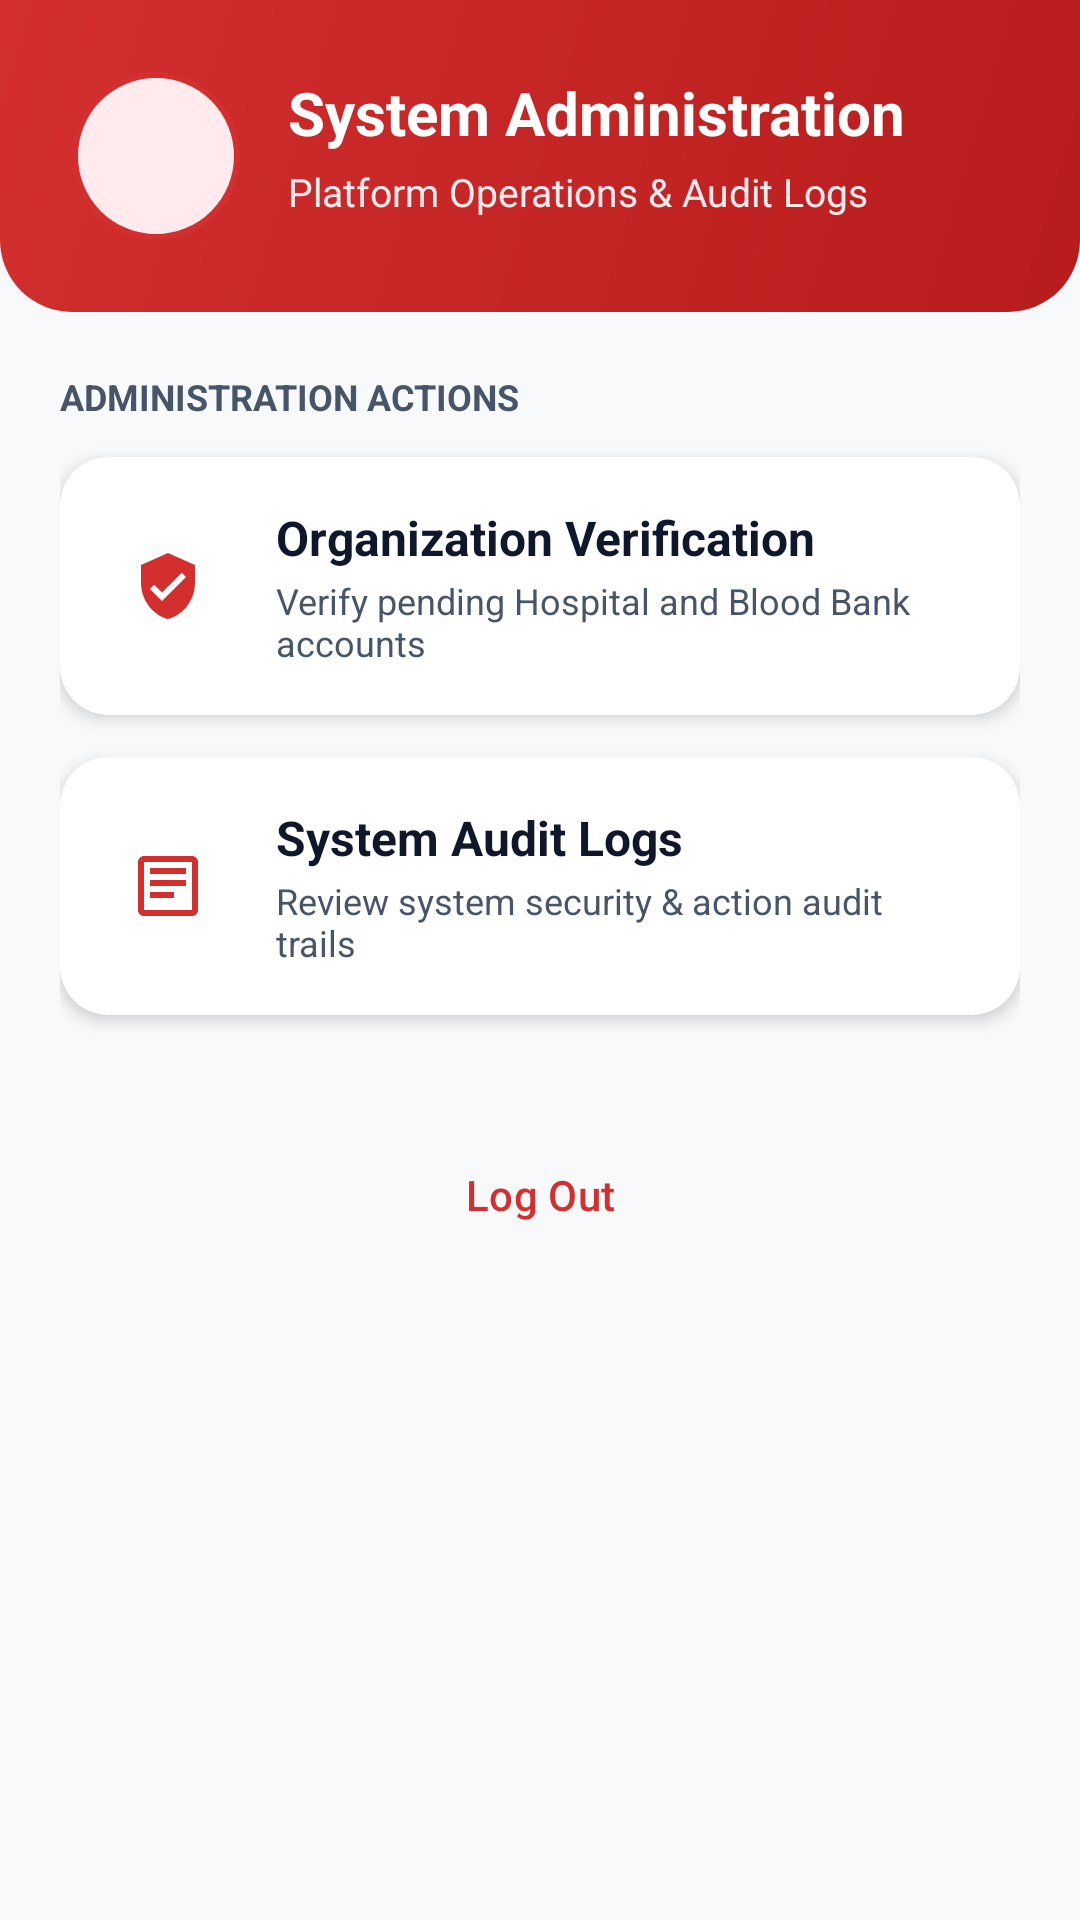

Icons on this 1080 x 1920 Android screen, each with its box as (x1, y1, x2, y2):
Shield Icon: (141, 553, 195, 619)
